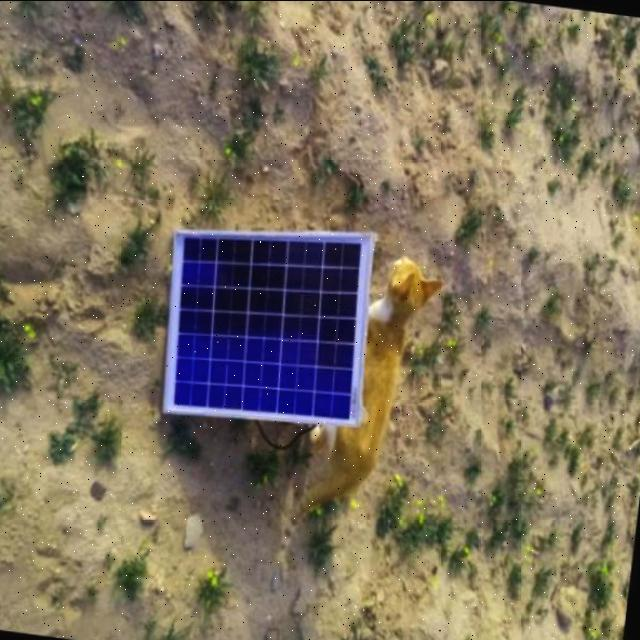Normal Solar Panel: (153, 208, 378, 434)
